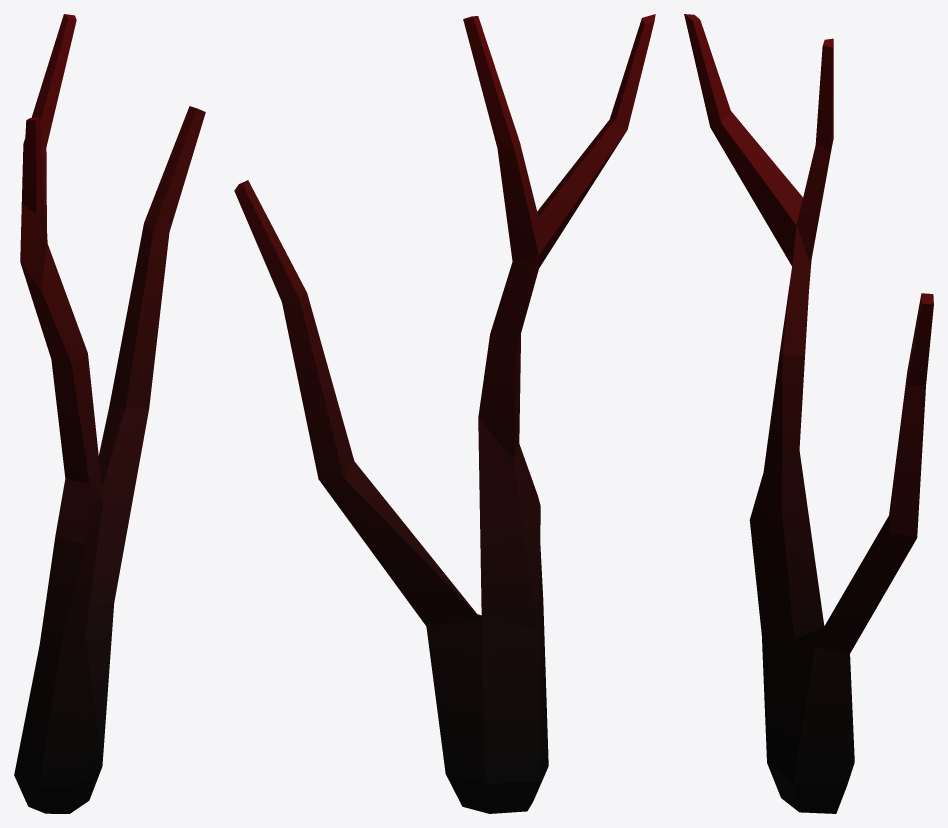
Rendered from SM_Env_Succulent_06_Collision.fbx.
3 renders of one model, left to right at view 1: azimuth 30°, elevation 25°; view 2: azimuth 150°, elevation 25°; view 3: azimuth 270°, elevation 25°, orthographic. The views are drawn at different scales.
Parts seen in each view (by area): view 1: SM_Env_Succulent_06_Collision; view 2: SM_Env_Succulent_06_Collision; view 3: SM_Env_Succulent_06_Collision.
Part boxes in pixels (left/top/right/bottom): SM_Env_Succulent_06_Collision: left=14, top=14, right=205, bottom=813; SM_Env_Succulent_06_Collision: left=234, top=14, right=655, bottom=813; SM_Env_Succulent_06_Collision: left=684, top=14, right=933, bottom=813.
Size of the model in its own units: 197 by 498 by 146.
